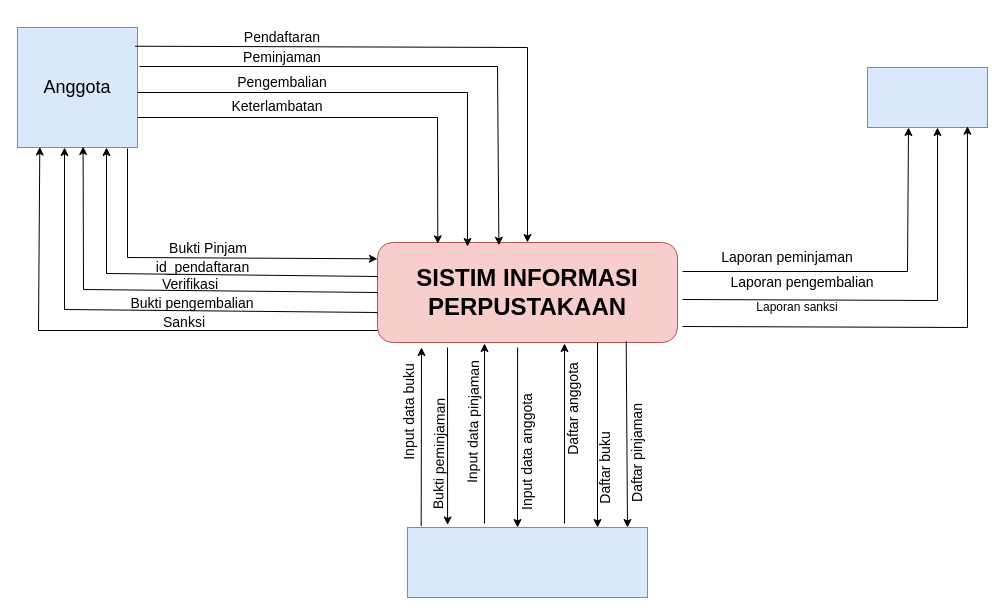
Some shapes in this 1005 by 615 pixel diagram are drawn without their labels. The shapes that lost their labels are listed below. From the top down, each one's box as (x1, y1, x2, y2) in pixels, then its label:
(866, 66, 988, 128): Kepala Perpus
(406, 526, 648, 598): Admin
